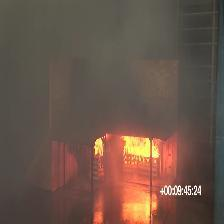fire: (86, 130, 161, 164)
